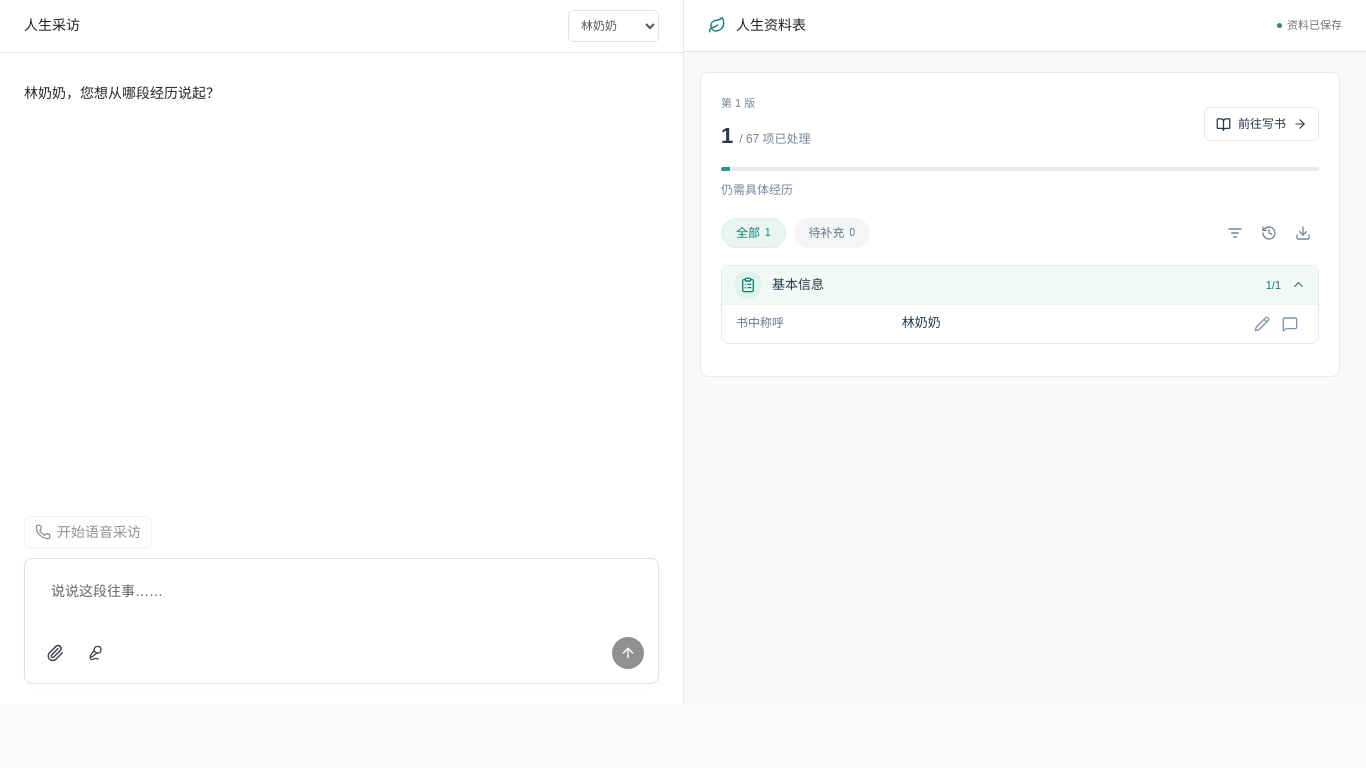
Test: switching people loads their own life profile
The width and height of the screenshot is (1366, 768).
Expected: the heading "人生资料表" is shown, [708,16,806,35]
Expected: the text "林奶奶" is shown, [902,315,941,330]
Select "王叔叔" in the dropdown named "采访人物" at {"x": 614, "y": 26}, box [568,10,659,42]
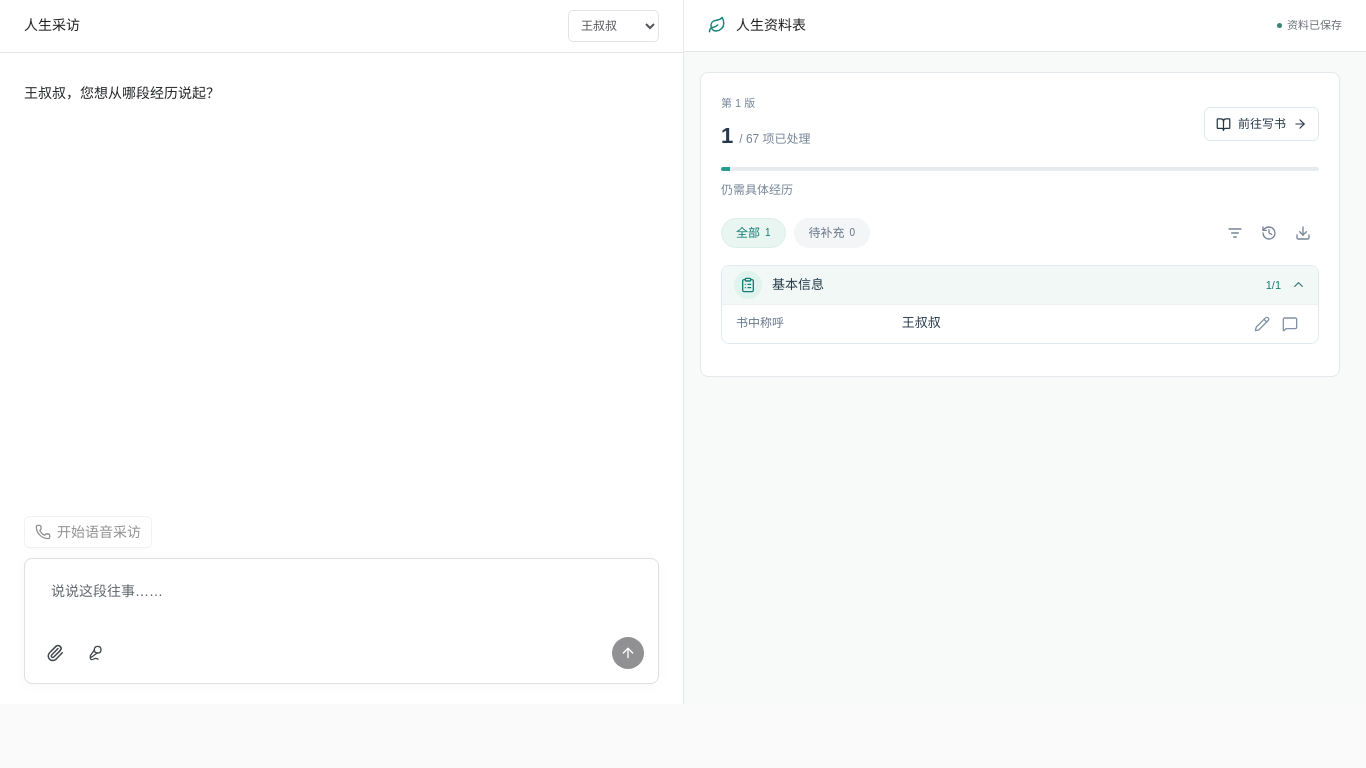
Expected: the text "王叔叔" is shown, [902,315,941,330]
Expected: the text "林奶奶" is gone
